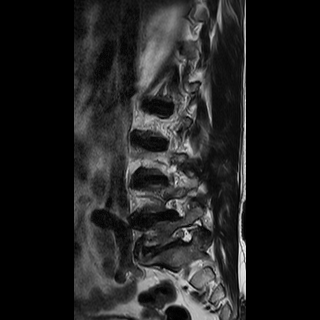RFS0: (167, 218, 200, 252)
